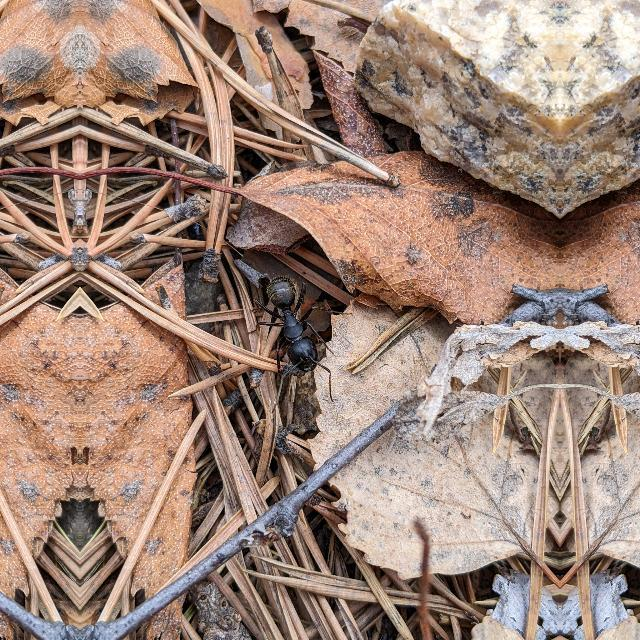Camponotus: (233, 266, 339, 394)
